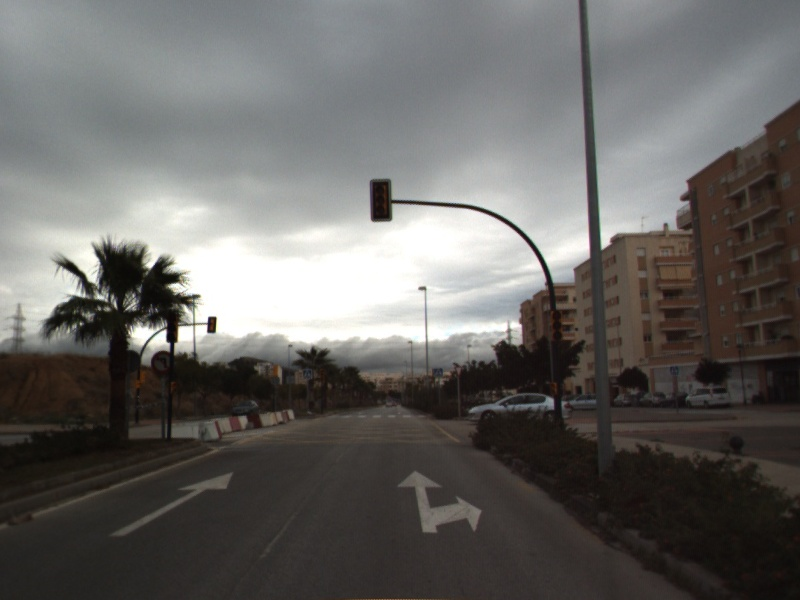STRAIGHT: (107, 470, 235, 538)
STRAIGHT_RIGHT: (395, 468, 484, 535)
